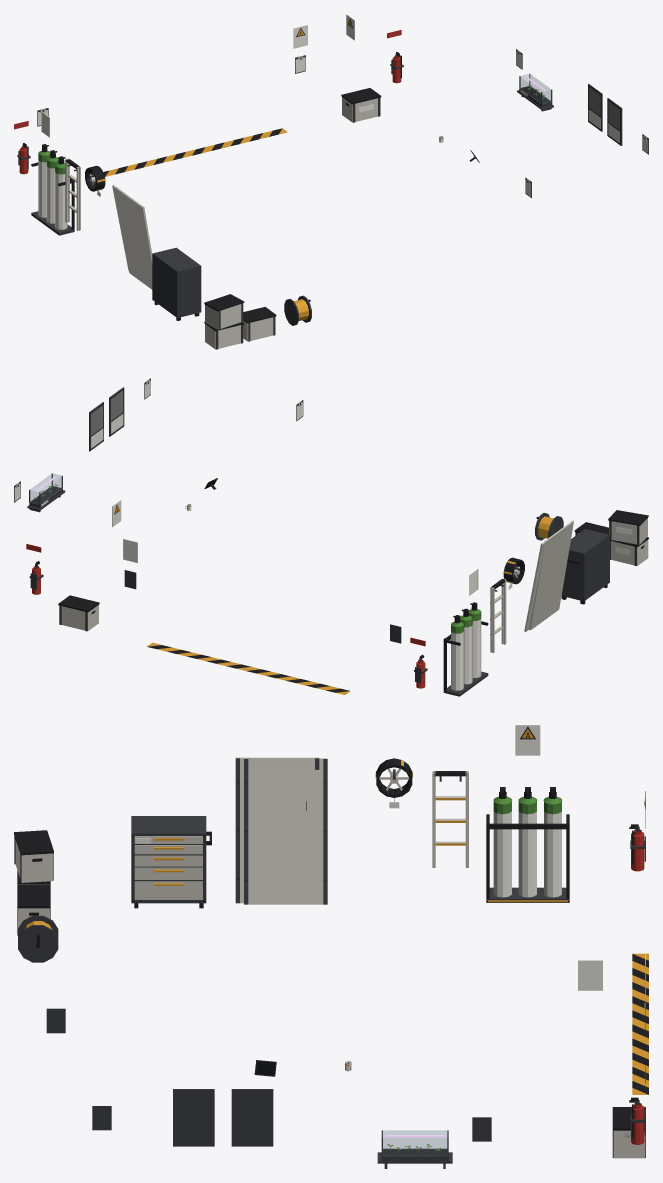
File: dc_interior.glb
3 views of the same model, one above another, from view 1: azimuth 30°, elevation 25°; view 2: azimuth 150°, elevation 25°; view 3: azimuth 270°, elevation 25° (orthographic). The views are drawn at different scales.
Visible parts, largest first — view 1: dc_interior_mesh; view 2: dc_interior_mesh; view 3: dc_interior_mesh.
Boxes of the visible parts, x1=… form: dc_interior_mesh: x1=14, y1=14, x2=648, y2=349; dc_interior_mesh: x1=14, y1=378, x2=648, y2=696; dc_interior_mesh: x1=14, y1=725, x2=648, y2=1168.
Size of what is drawn, in the model's own units: 9.55 by 2.26 by 7.6.
